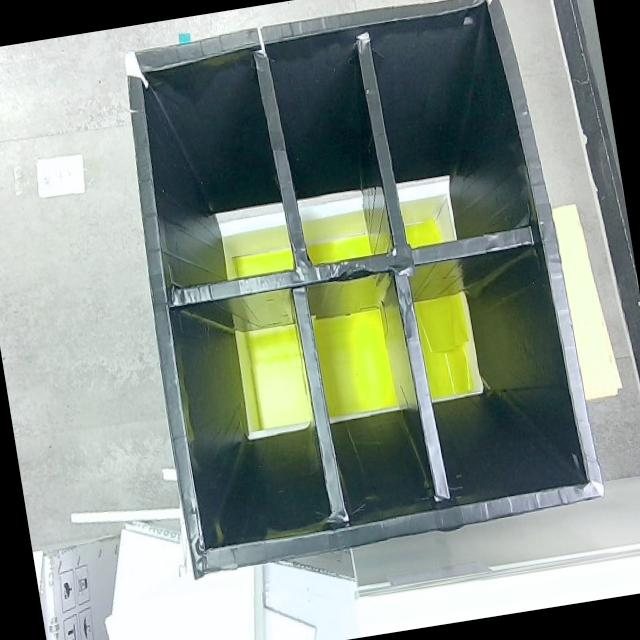box: (108, 0, 607, 576)
